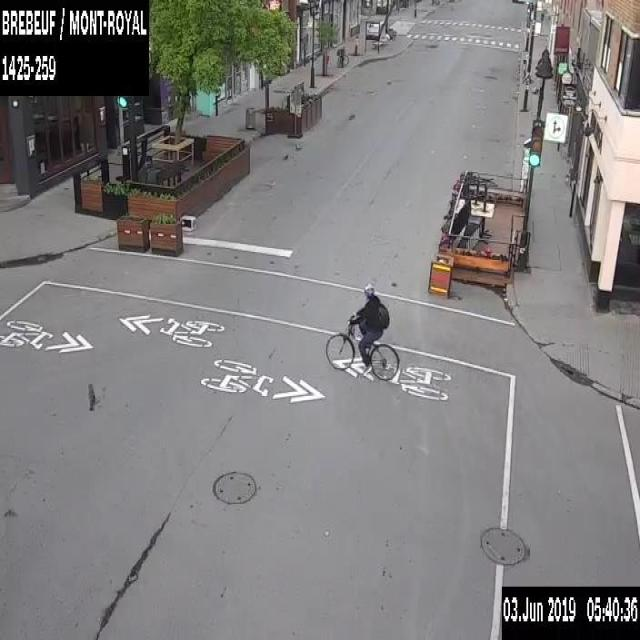cyclist: (323, 281, 400, 383)
